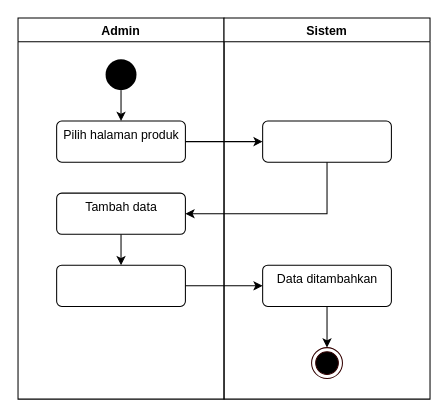
Image size: 448x417. Some labels were removed from this diagram. The centre of each missing label's shape, as x and y in pixels:
Masukan data produk: the point at 120,285
Menampilkan halaman produk: the point at 326,141
